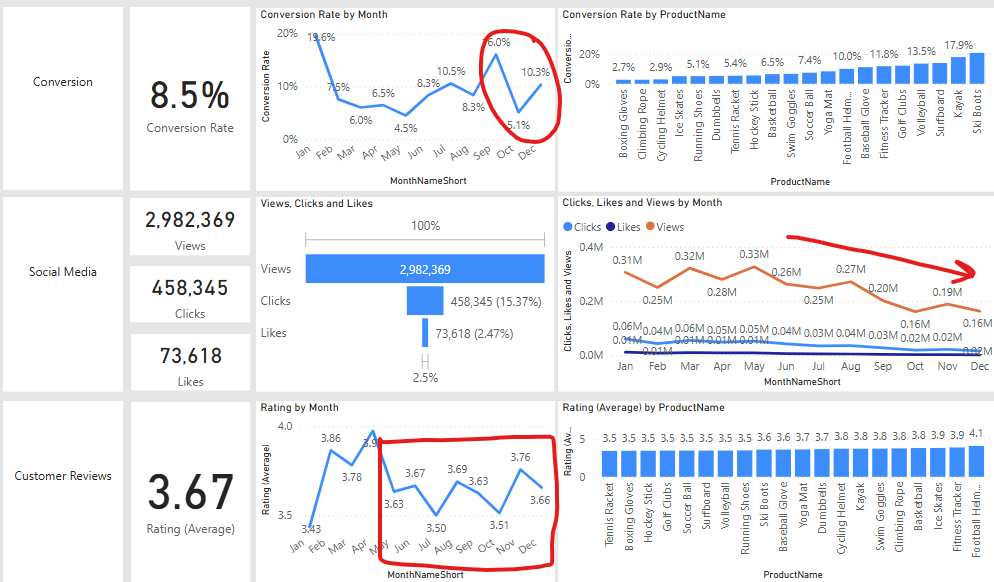

What the dashboard file says about the page in this screenshot:
{"tool":"powerbi","page":{"name":"Overview","canvas":[1280,720],"ordinal":0},"visuals":[{"type":"textbox","box":[10,0,1256.4,75.5],"z":0},{"type":"slicer","fields":{"Values":["dim_products.ProductName"]},"box":[0,84.5,163.6,635.5],"z":1000},{"type":"textbox","box":[174,84,132,201],"z":2000},{"type":"textbox","box":[174,292,132,214],"z":3000},{"type":"textbox","box":[174,517,132,203],"z":4000},{"type":"card","fields":{"Values":["_Calculations.Conversion Rate"]},"box":[313.1,83.5,131.8,201.8],"z":5000},{"type":"card","fields":{"Values":["_Calculations.Views"]},"box":[313.1,293.5,131.8,62.7],"z":6000},{"type":"card","fields":{"Values":["_Calculations.Clicks"]},"box":[313.1,368.9,131.8,61.8],"z":7000},{"type":"card","fields":{"Values":["_Calculations.Likes"]},"box":[314,443.5,130.9,61.8],"z":8000},{"type":"card","fields":{"Values":["_Calculations.Rating (Average)"]},"box":[314,518,130.9,201.8],"z":9000},{"type":"slicer","fields":{"Values":["Calendar.Year"]},"box":[285.5,4.5,280,64.5],"z":10000},{"type":"slicer","fields":{"Values":["Calendar.MonthNameShort"]},"box":[556.4,4.5,693.6,64.5],"z":11000},{"type":"lineChart","title":"Conversion Rate by Month","fields":{"Y":["_Calculations.Conversion Rate"],"Category":["Calendar.MonthNameShort"]},"box":[452,85,329,201],"z":12000},{"type":"clusteredColumnChart","fields":{"Category":["dim_products.ProductName"],"Y":["_Calculations.Conversion Rate"]},"box":[783.6,84.5,482.7,201.8],"z":13000},{"type":"lineChart","title":"Clicks, Likes and Views by Month","fields":{"Y":["_Calculations.Clicks","_Calculations.Likes","_Calculations.Views"],"Category":["Calendar.MonthNameShort"]},"box":[783.6,291.8,482.7,214.5],"z":14000},{"type":"funnel","title":"Views, Clicks and Likes","fields":{"Y":["_Calculations.Views","_Calculations.Clicks","_Calculations.Likes"]},"box":[452,292,328,214],"z":15000},{"type":"lineChart","title":"Rating by Month","fields":{"Y":["_Calculations.Rating (Average)"],"Category":["Calendar.MonthNameShort"]},"box":[452,517,329,202],"z":16000},{"type":"clusteredColumnChart","fields":{"Category":["dim_products.ProductName"],"Y":["_Calculations.Rating (Average)"]},"box":[783.6,517.3,482.7,201.8],"z":17000}]}

Visuals, with their boxes on the page's 1280x720 design canvas (x1, y1, x2, y2). These are canvas units, not pixel positions in the 994x582 screenshot, which may show the page scaled, cropped or inside an application window:
textbox: (10, 0, 1266, 76)
slicer - dim_products.ProductName: (0, 84, 164, 720)
textbox: (174, 84, 306, 285)
textbox: (174, 292, 306, 506)
textbox: (174, 517, 306, 720)
card - _Calculations.Conversion Rate: (313, 84, 445, 285)
card - _Calculations.Views: (313, 294, 445, 356)
card - _Calculations.Clicks: (313, 369, 445, 431)
card - _Calculations.Likes: (314, 444, 445, 505)
card - _Calculations.Rating (Average): (314, 518, 445, 720)
slicer - Calendar.Year: (286, 4, 566, 69)
slicer - Calendar.MonthNameShort: (556, 4, 1250, 69)
"Conversion Rate by Month" lineChart: (452, 85, 781, 286)
clusteredColumnChart - dim_products.ProductName x _Calculations.Conversion Rate: (784, 84, 1266, 286)
"Clicks, Likes and Views by Month" lineChart: (784, 292, 1266, 506)
"Views, Clicks and Likes" funnel: (452, 292, 780, 506)
"Rating by Month" lineChart: (452, 517, 781, 719)
clusteredColumnChart - dim_products.ProductName x _Calculations.Rating (Average): (784, 517, 1266, 719)
